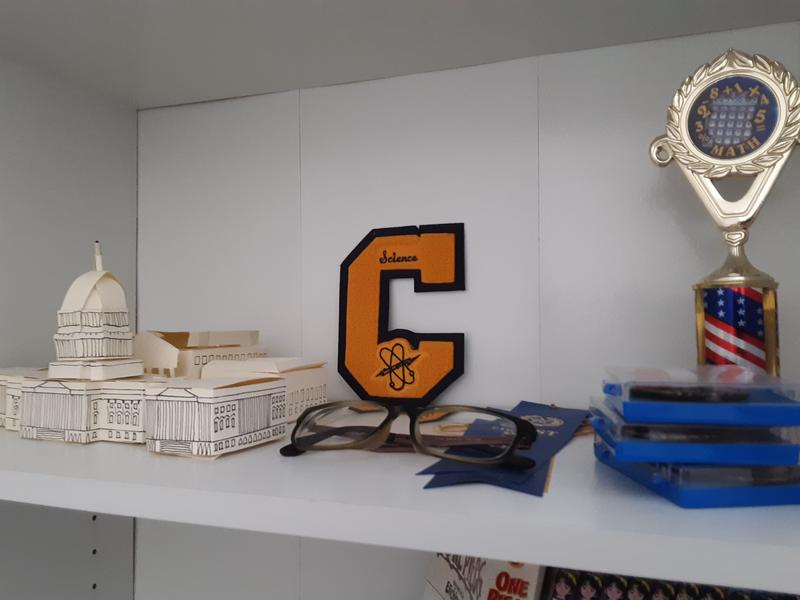glasses: (279, 398, 539, 472)
